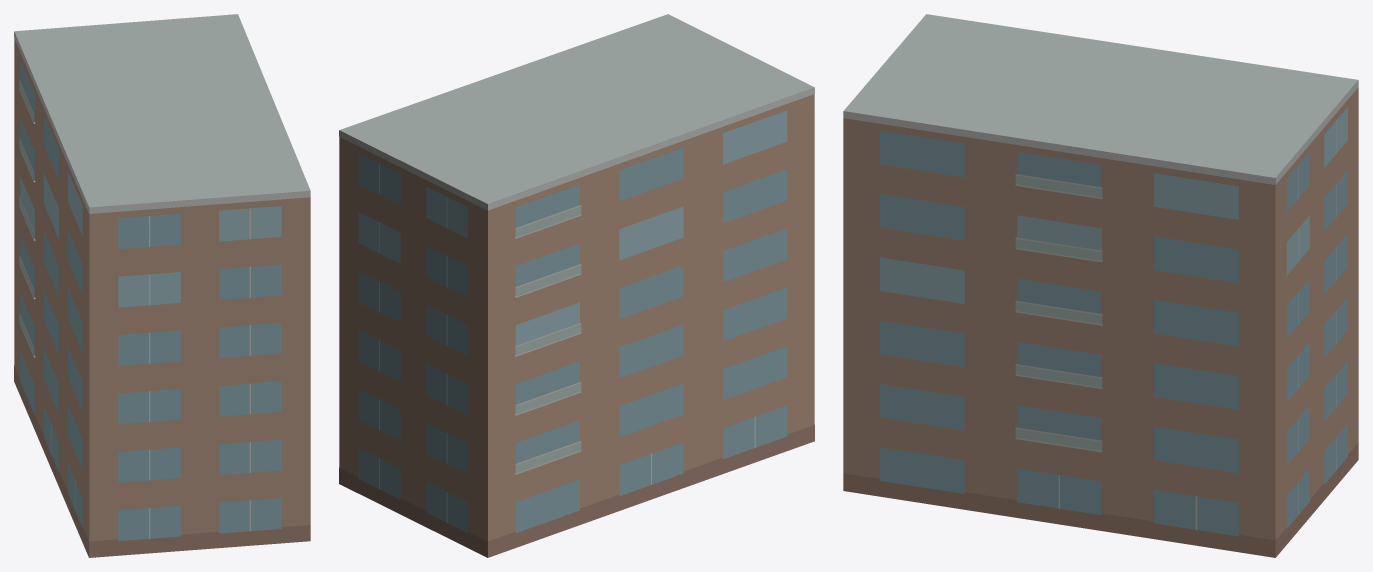
The model's file is survey-upis-32893538.glb.
The picture shows the model from 3 angles, left to right: view 1: azimuth 30°, elevation 25°; view 2: azimuth 150°, elevation 25°; view 3: azimuth 270°, elevation 25°; orthographic projection. The views are drawn at different scales.
Parts seen in each view (by area): view 1: survey-upis-32893538.tmp; view 2: survey-upis-32893538.tmp; view 3: survey-upis-32893538.tmp.
Part boxes in pixels (x1,y1,x2,y2): survey-upis-32893538.tmp: (14,14,310,557); survey-upis-32893538.tmp: (339,14,814,557); survey-upis-32893538.tmp: (843,14,1358,557).
Size of the model in its own units: 12.23 by 13.2 by 16.23.
